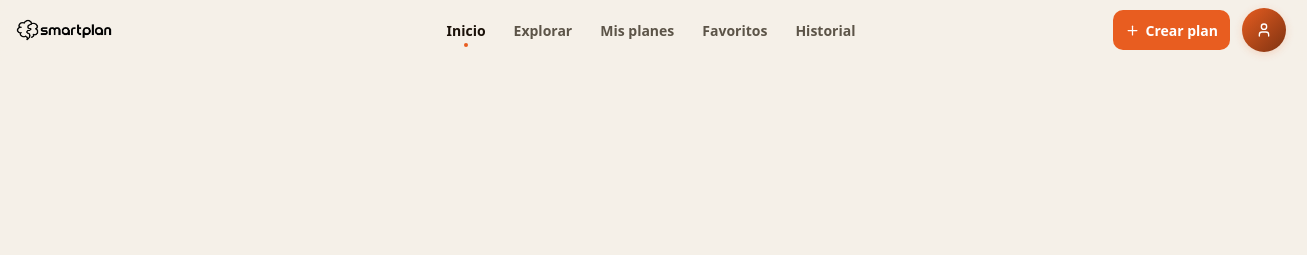
Navbar › expands the user menu when there is a session
Click the button named "mi cuenta" at (1264, 30), box [1242,8,1286,52]
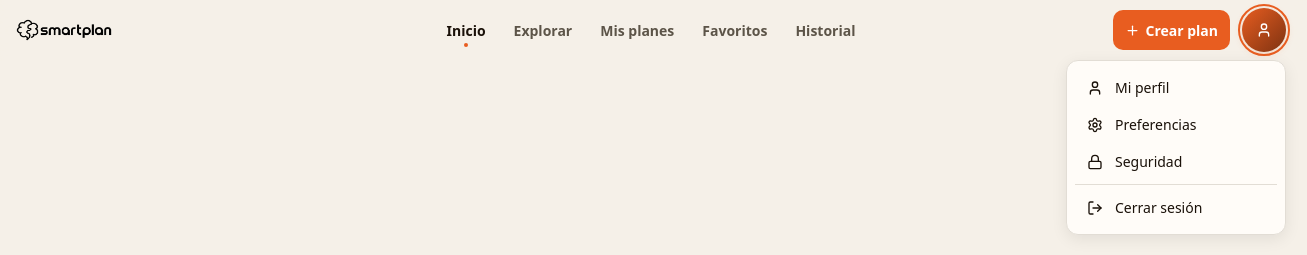
Expected: the button named "mi cuenta" is expanded, [1242,8,1286,52]
Expected: the button "Cerrar sesión" is shown, [1075,189,1277,226]
